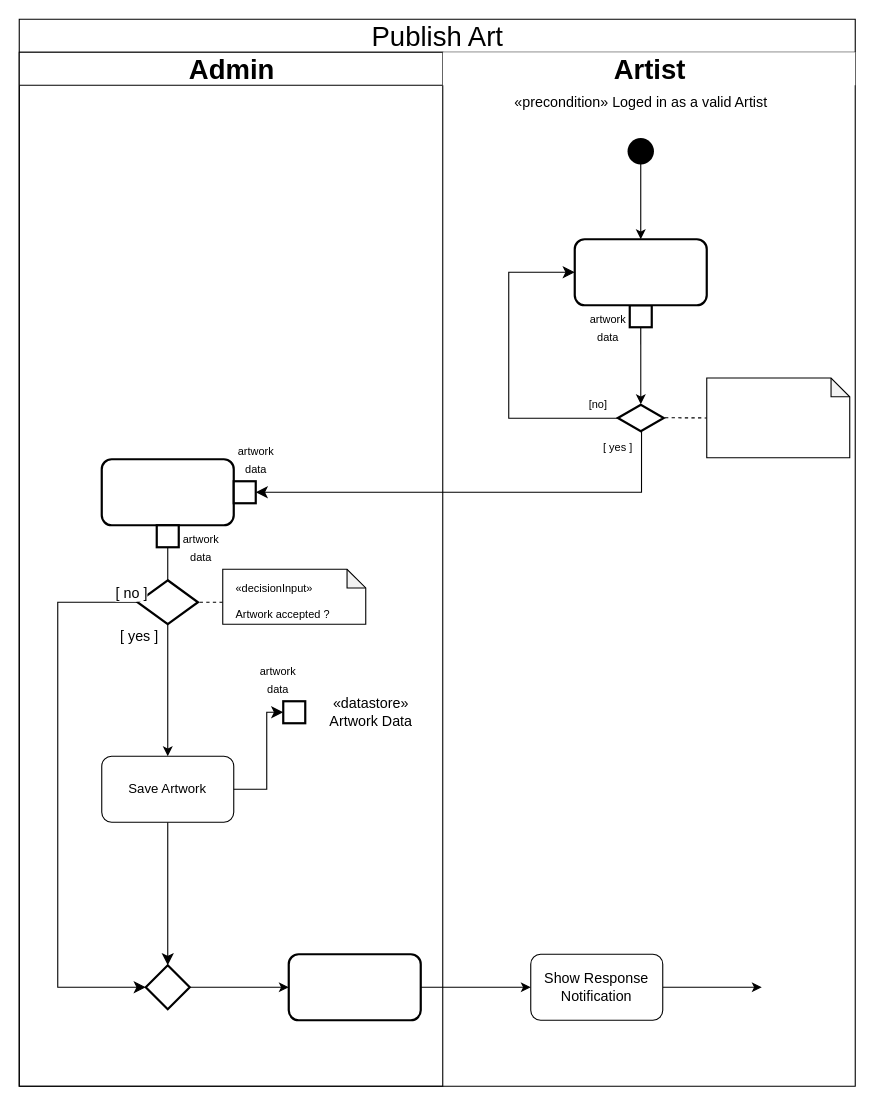
Some shapes in this 875 by 1106 pixel diagram are drawn without their labels. The shapes that lost their labels are listed below. From the top down, each one's centre as x and y in pixels, then its label:
At pixel 640 272: "Submit Artwork Data".
At pixel 778 417: "«decisionInput» Are Inputs valid and complete ?".
At pixel 167 492: "Review Artwork".
At pixel 354 987: "Send Response Notification".
